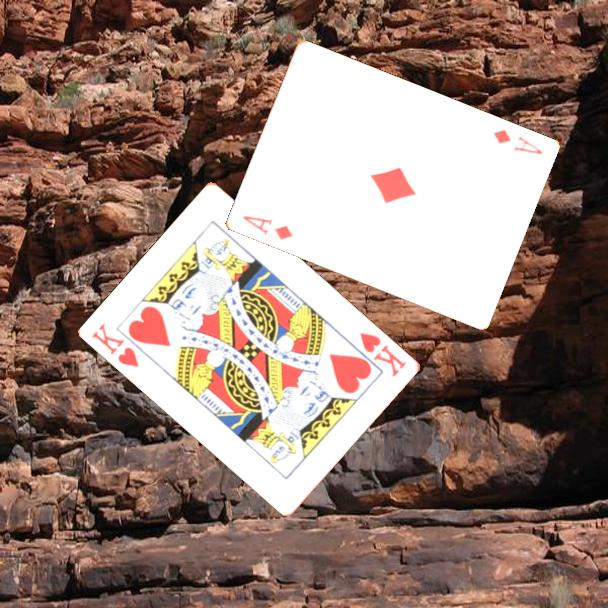d01: (489, 126, 545, 158), (239, 212, 295, 243)
h13: (356, 329, 410, 380), (89, 319, 143, 370)
